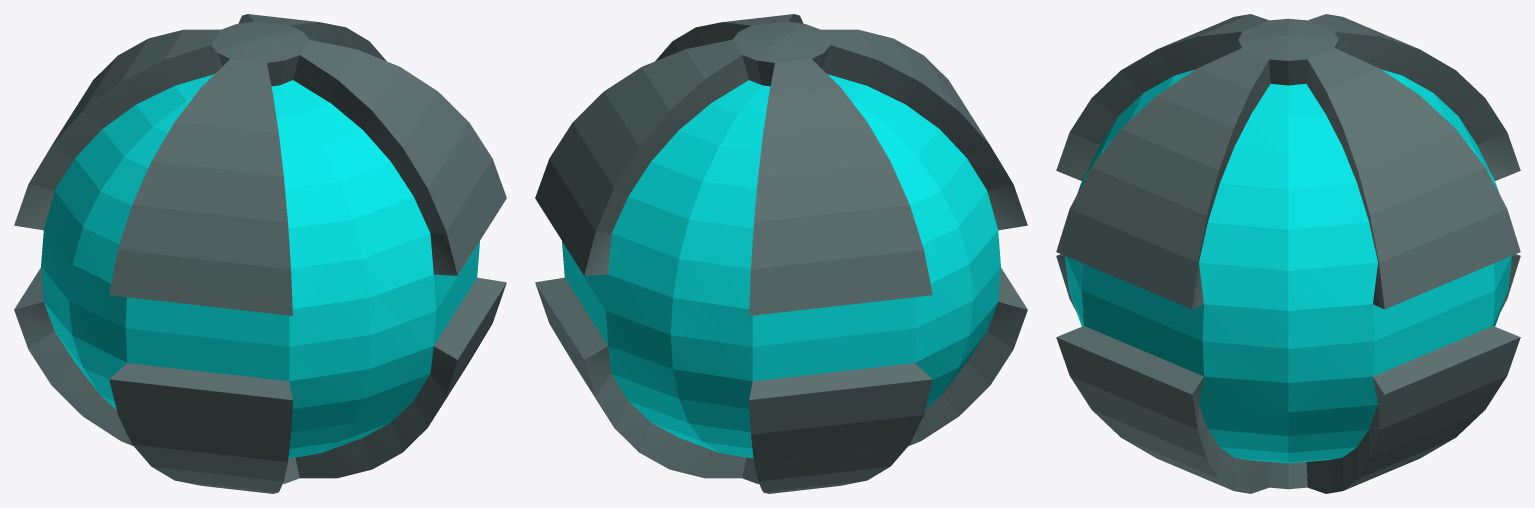
Rendered from Artillery_Projectile_Ice.fbx.
The picture shows the model from 3 angles, left to right: view 1: azimuth 30°, elevation 25°; view 2: azimuth 150°, elevation 25°; view 3: azimuth 270°, elevation 25°; orthographic projection.
Parts seen in each view (by area): view 1: pSphere1; view 2: pSphere1; view 3: pSphere1.
Part boxes in pixels (x1,y1,x2,y2): pSphere1: [14, 14, 506, 493]; pSphere1: [535, 14, 1027, 493]; pSphere1: [1056, 14, 1520, 493].
Bounding box in the file's own units: 9 × 9.33 × 9.
